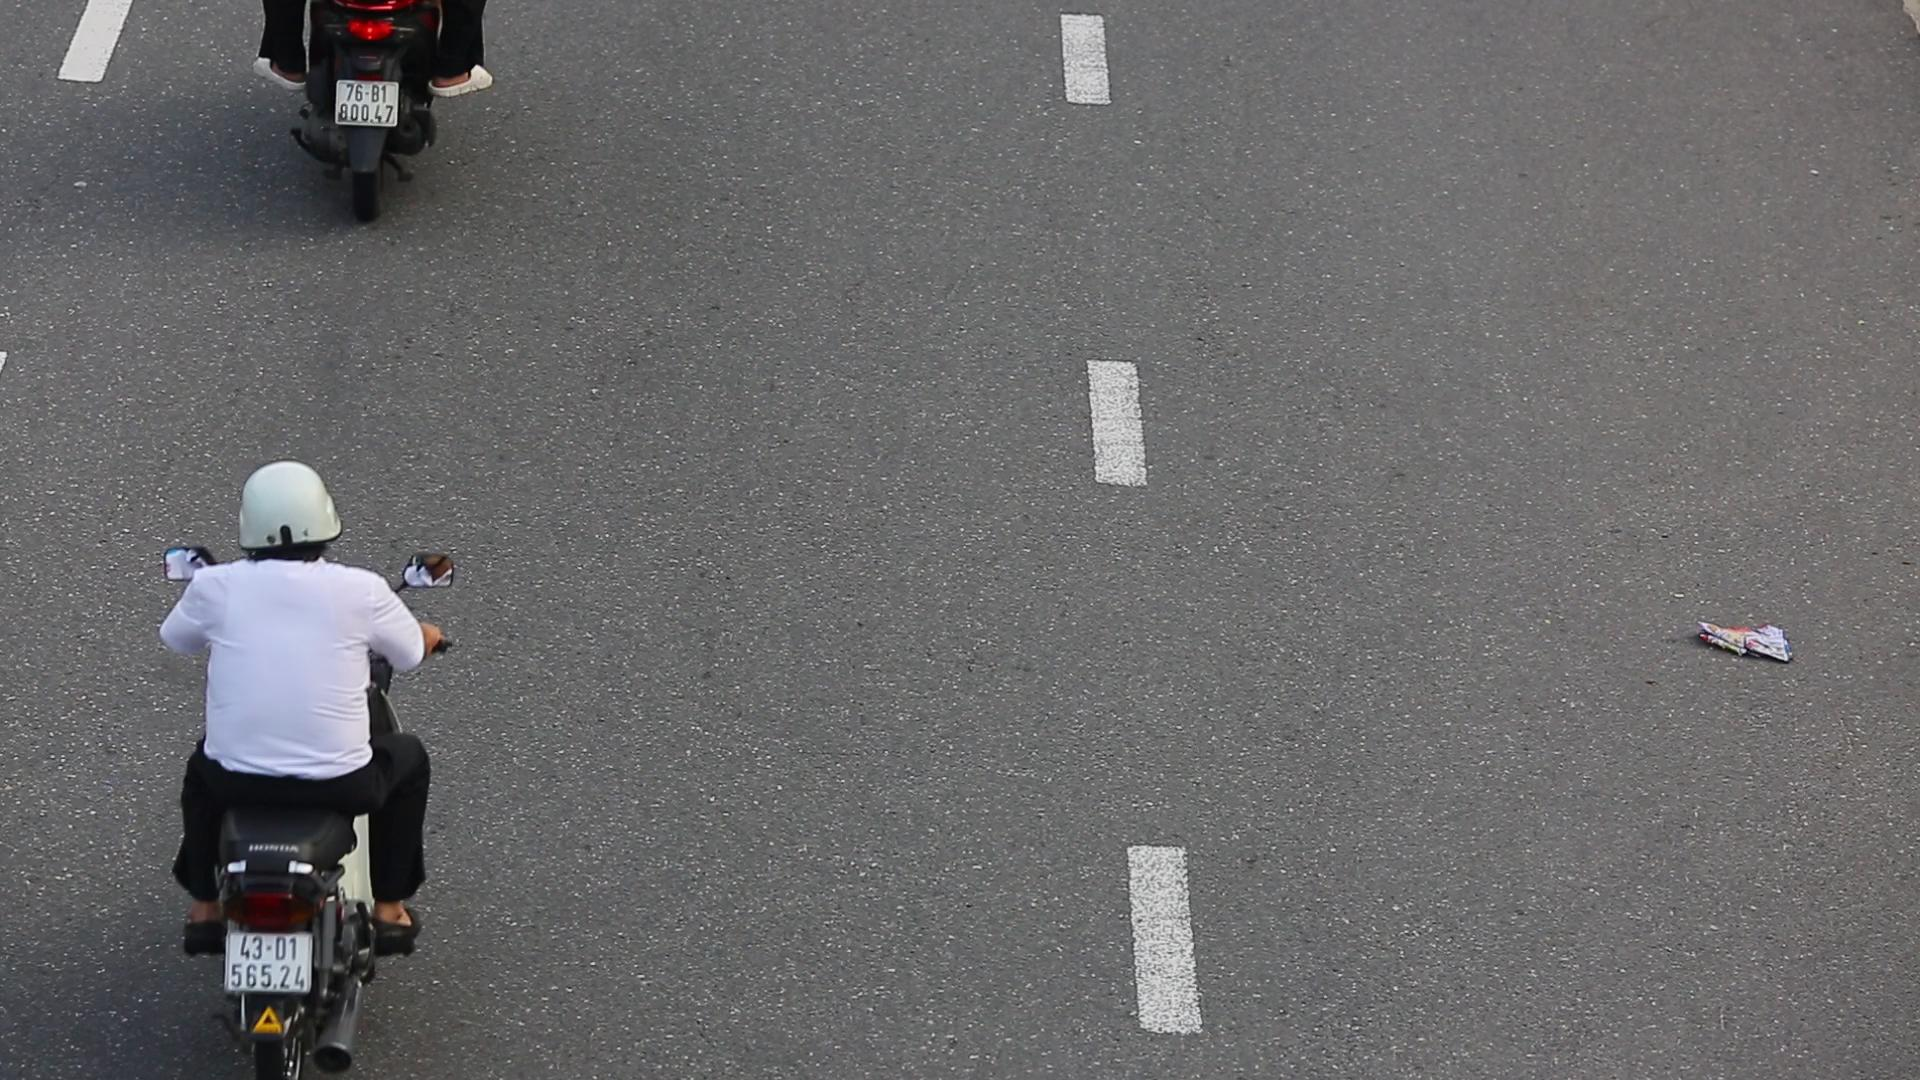motobike: (150, 423, 459, 1080)
